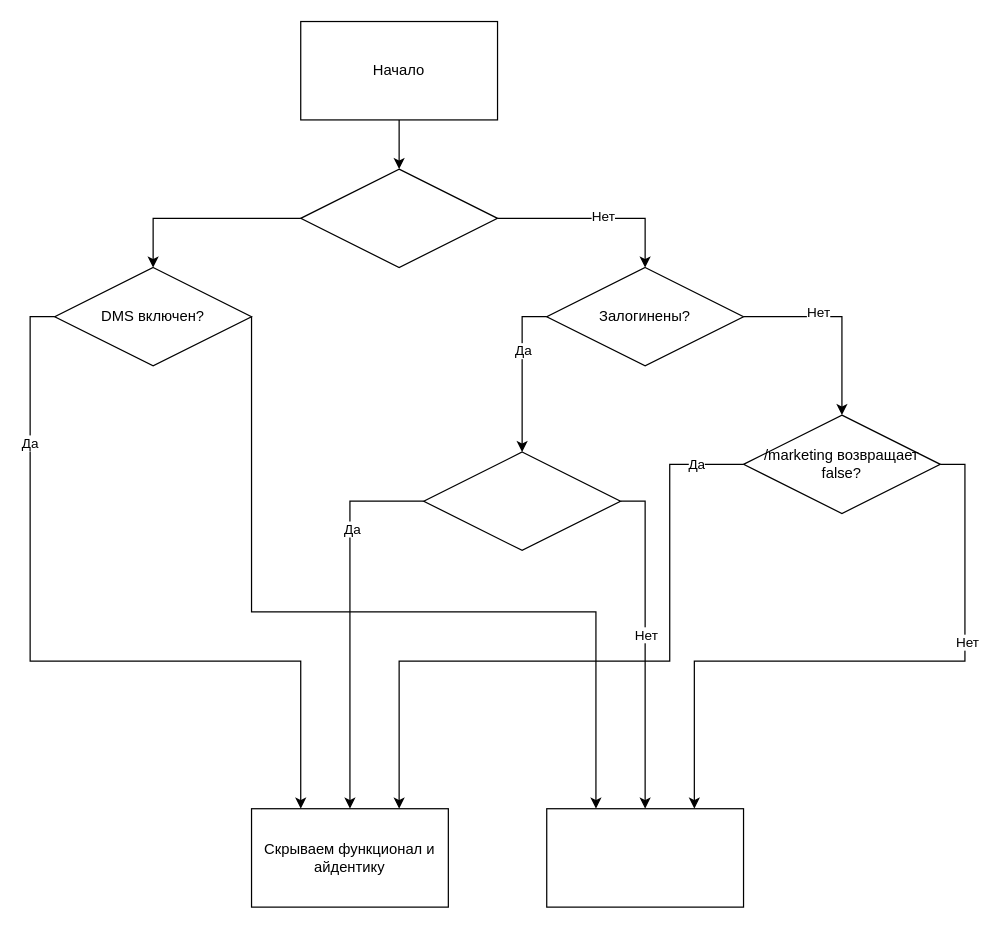
Image size: 1000x929. Some labels were removed from this diagram. Each missing label, with the box of its shape:
CAS в черном списке?: (423, 451, 621, 550)
Есть DMS в хипе?: (300, 168, 498, 268)
Показываем функционал и айдентику: (546, 807, 744, 907)
